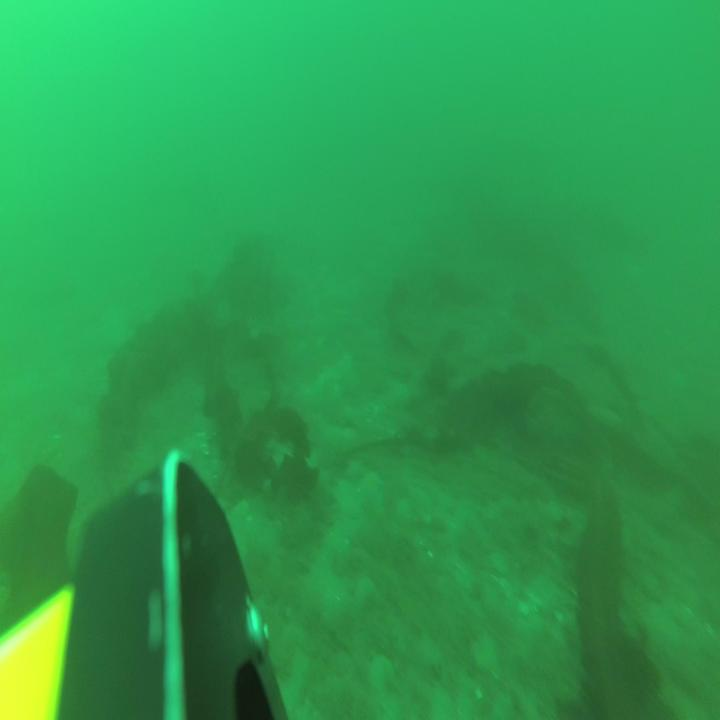scallop: (364, 648, 396, 694)
starfish: (362, 470, 385, 502), (345, 455, 366, 485)
